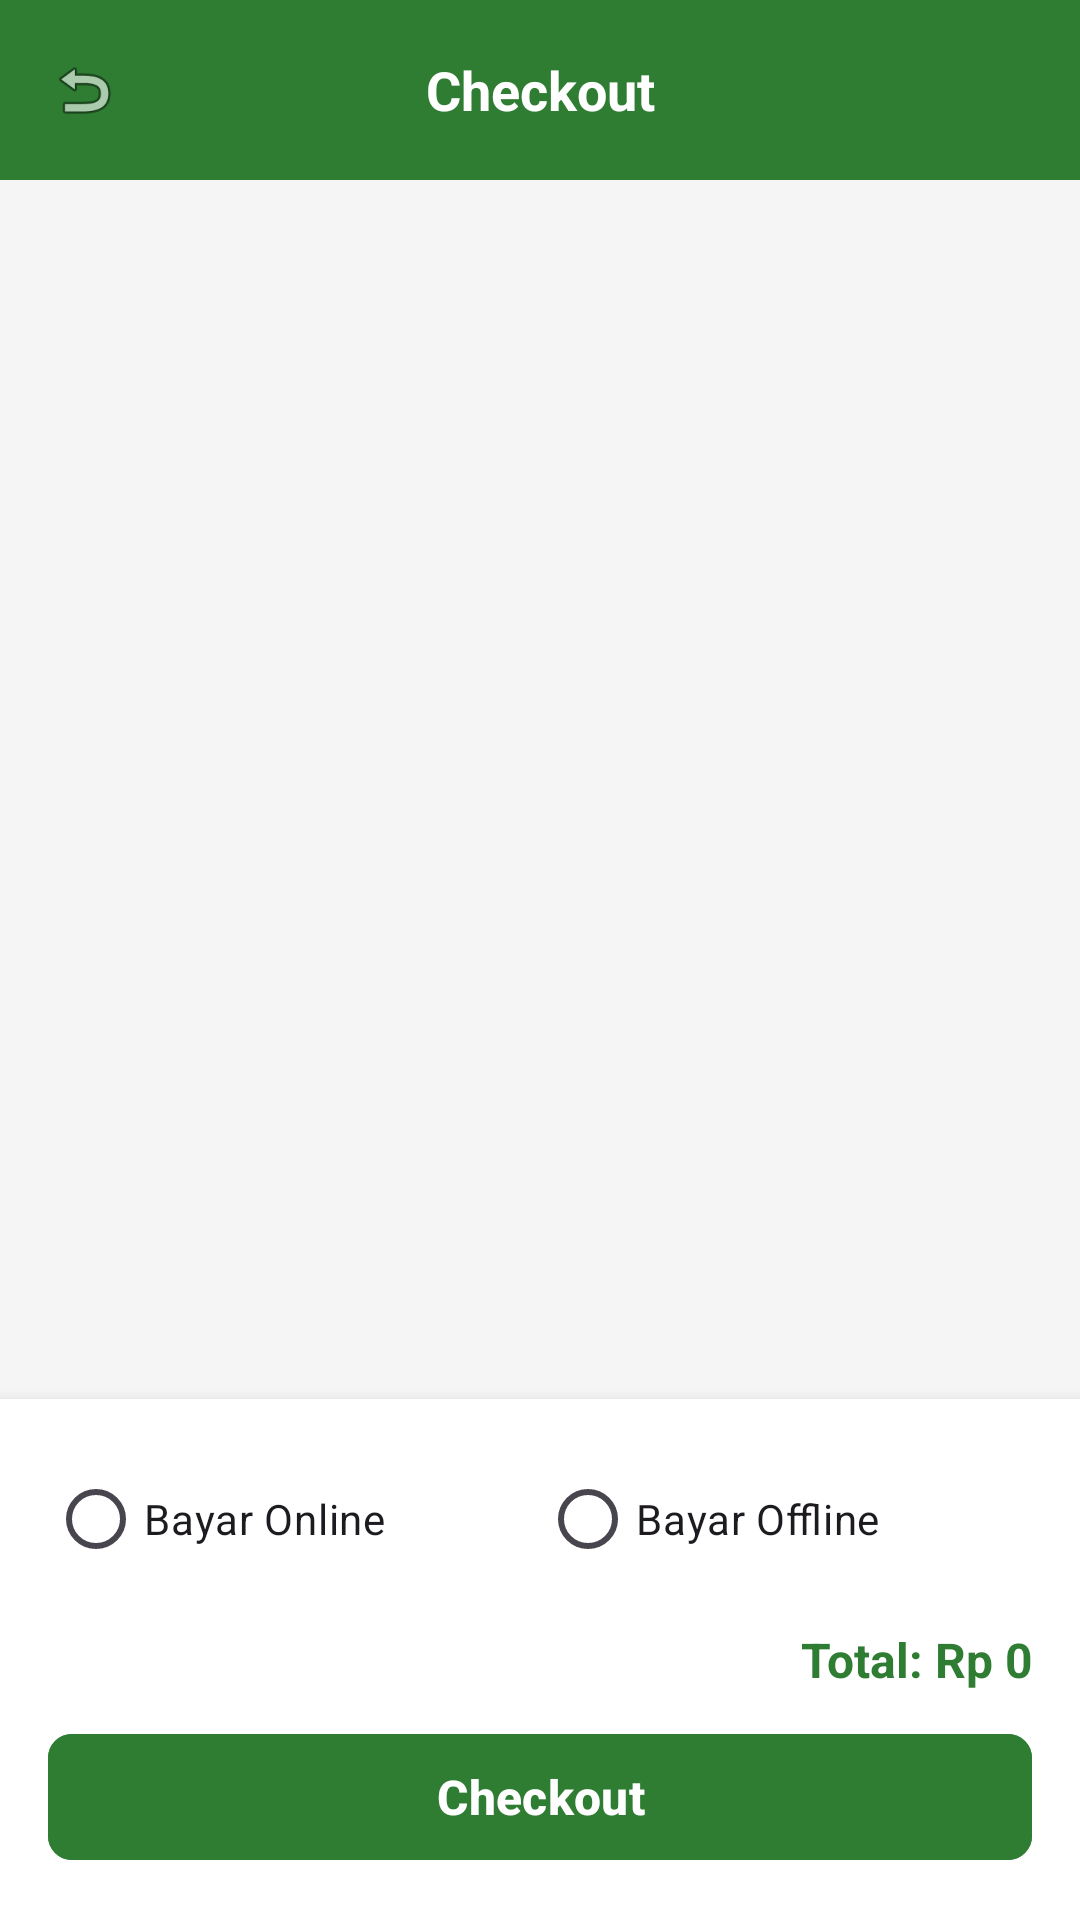

Icon bounding boxes for this 1080 x 1920 phone screenshot, format box=[x1, y1, x2, y2]:
revert: box=[59, 67, 111, 114]
